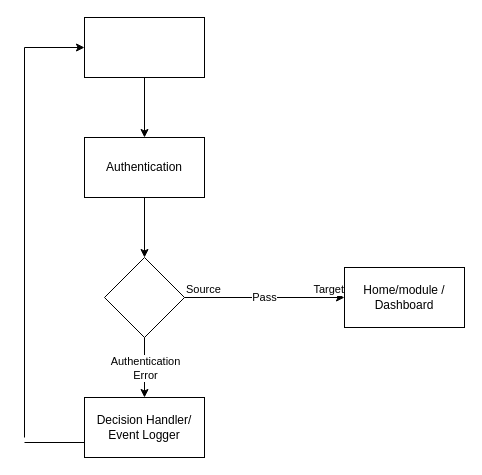
Some shapes in this 482 by 475 pixel diagram are drawn without their labels. The box of each missing label's shape, as (x1, y1, x2, y2) in pixels:
Account Page: (84, 16, 204, 78)
User Authentication: (104, 256, 184, 338)
